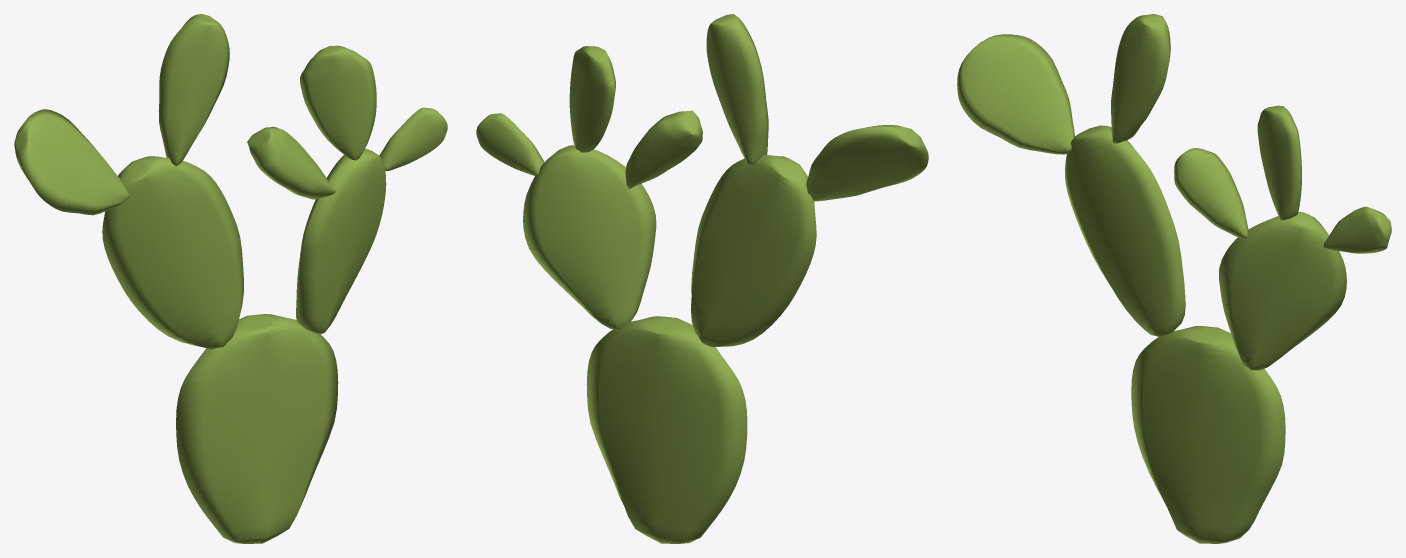
File: SmallCactusVar1.fbx
The picture shows the model from 3 angles, left to right: view 1: azimuth 30°, elevation 25°; view 2: azimuth 150°, elevation 25°; view 3: azimuth 330°, elevation 25°; orthographic projection. The views are drawn at different scales.
Visible parts, largest first — view 1: SmalLCactus1; view 2: SmalLCactus1; view 3: SmalLCactus1.
Part boxes in pixels (<box>): SmalLCactus1: <box>14,14,447,543</box>; SmalLCactus1: <box>476,14,928,543</box>; SmalLCactus1: <box>957,14,1391,543</box>.
Bounding box in the file's own units: 1.13 × 1.33 × 0.1693.
